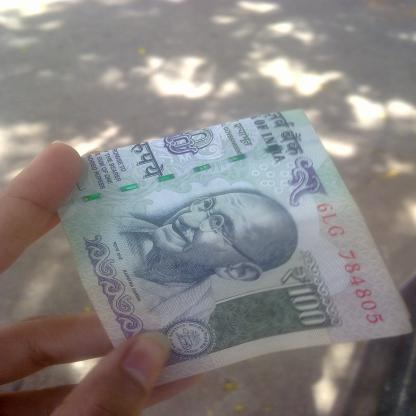Old100Front: (55, 108, 416, 390)
